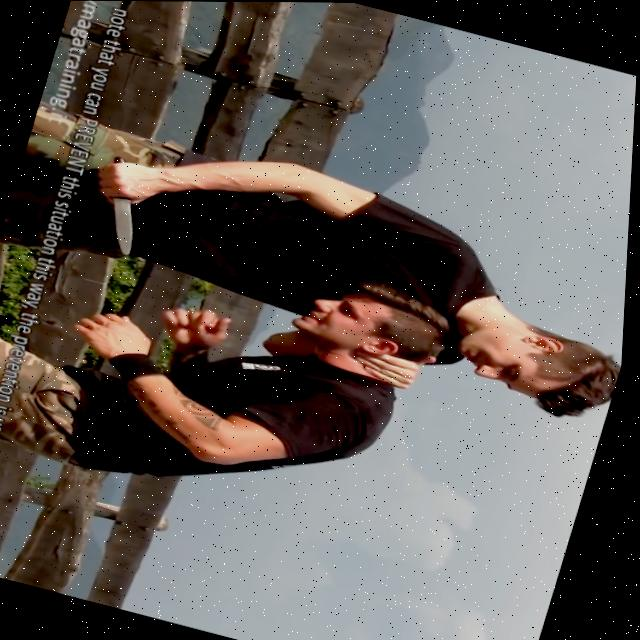knife: (86, 191, 157, 261)
